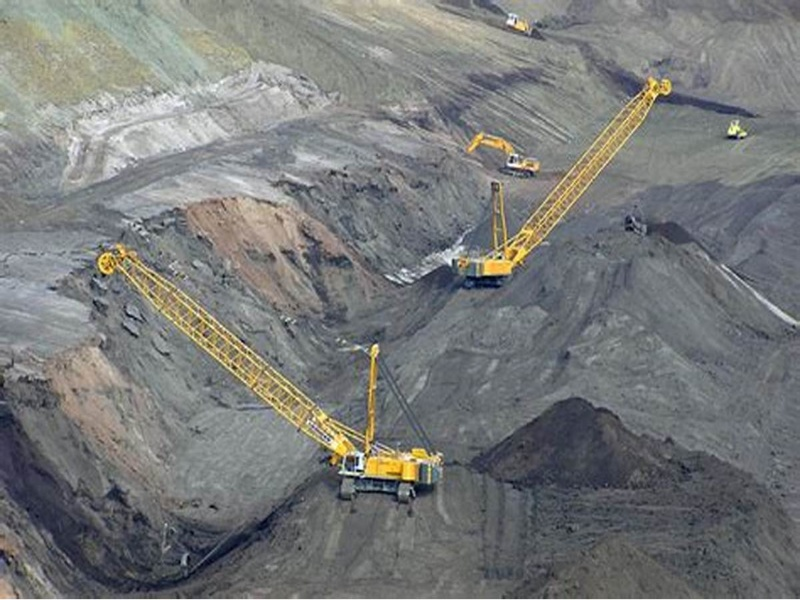crane: (96, 243, 446, 505), (449, 73, 676, 293)
excavator: (459, 128, 540, 178)
